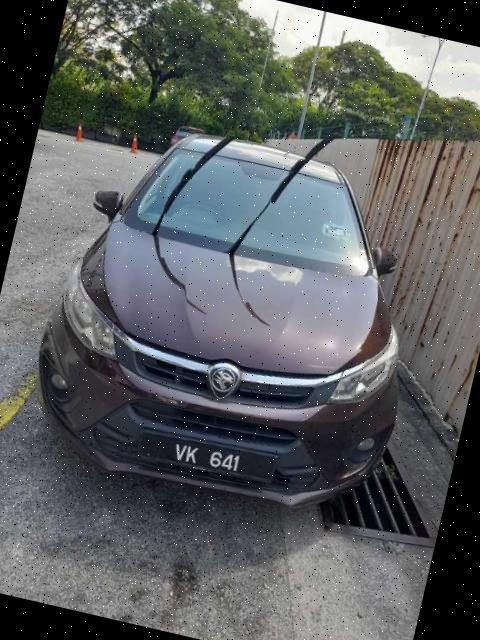License_Plate: (135, 423, 280, 489)
car: (16, 104, 451, 534), (169, 123, 206, 156)
